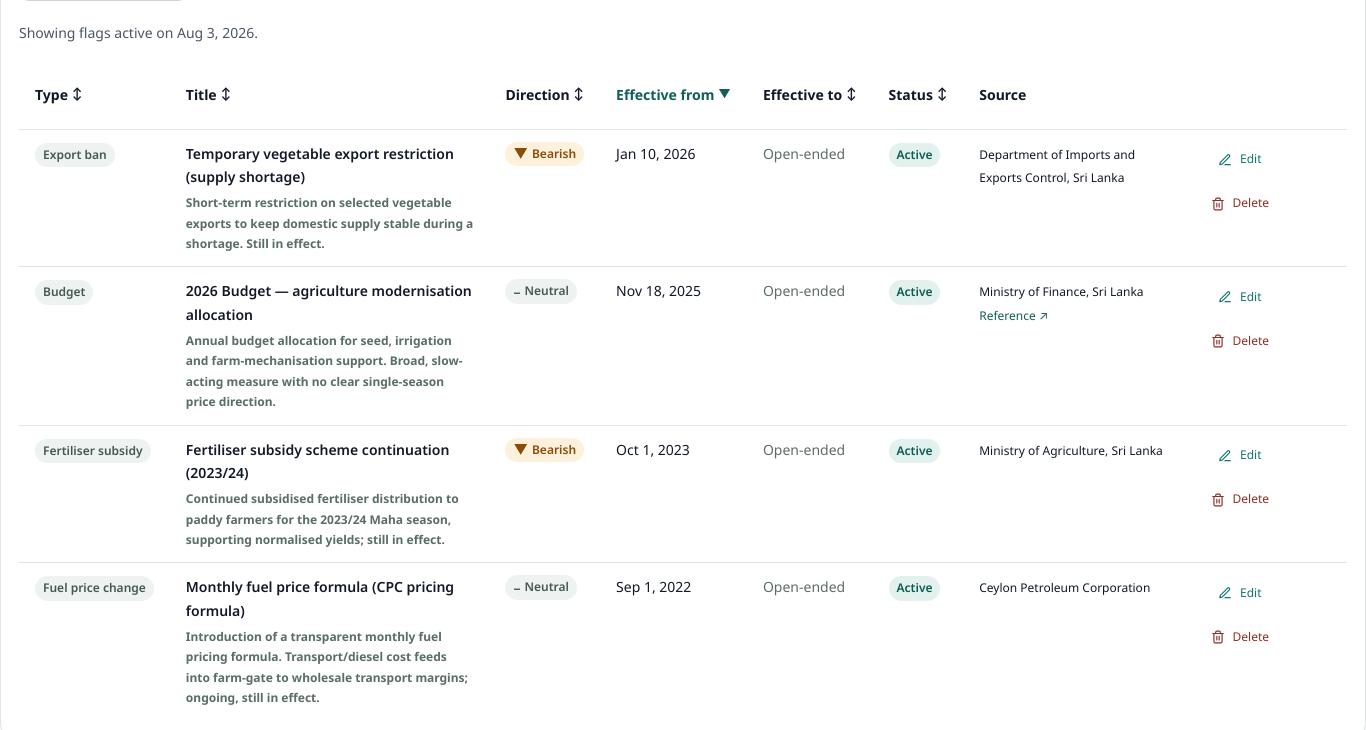
Test: Admin console pages › PolicyFlagsPage (ADM-2) › surfaces a server guard message verbatim when a delete is rejected
The image size is (1366, 730).
(page scrolled)
Click the button "Delete" below "Ceylon Petroleum Corporation". click: click(1240, 637)
box: [1196, 619, 1284, 655]
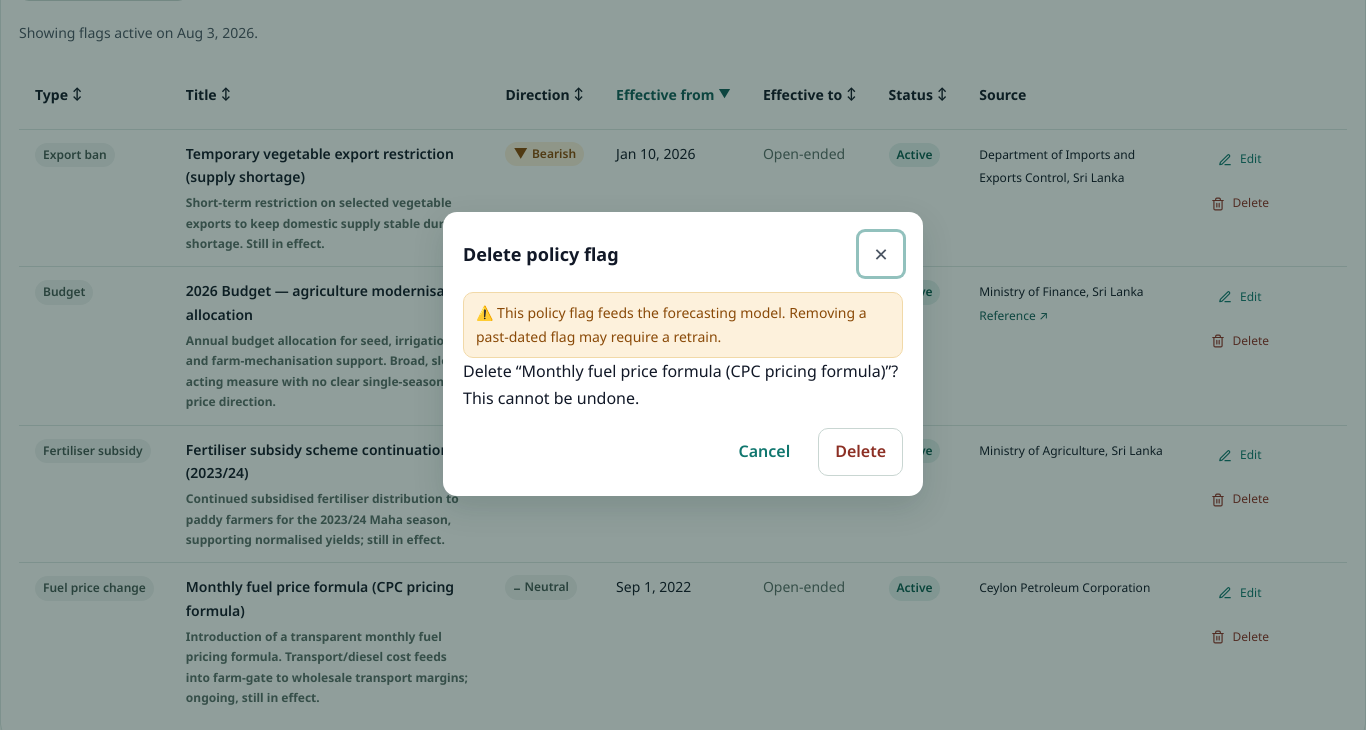
Click the button with class "adm-btn--danger". click: click(861, 452)
box: [818, 428, 903, 476]
(page scrolled)
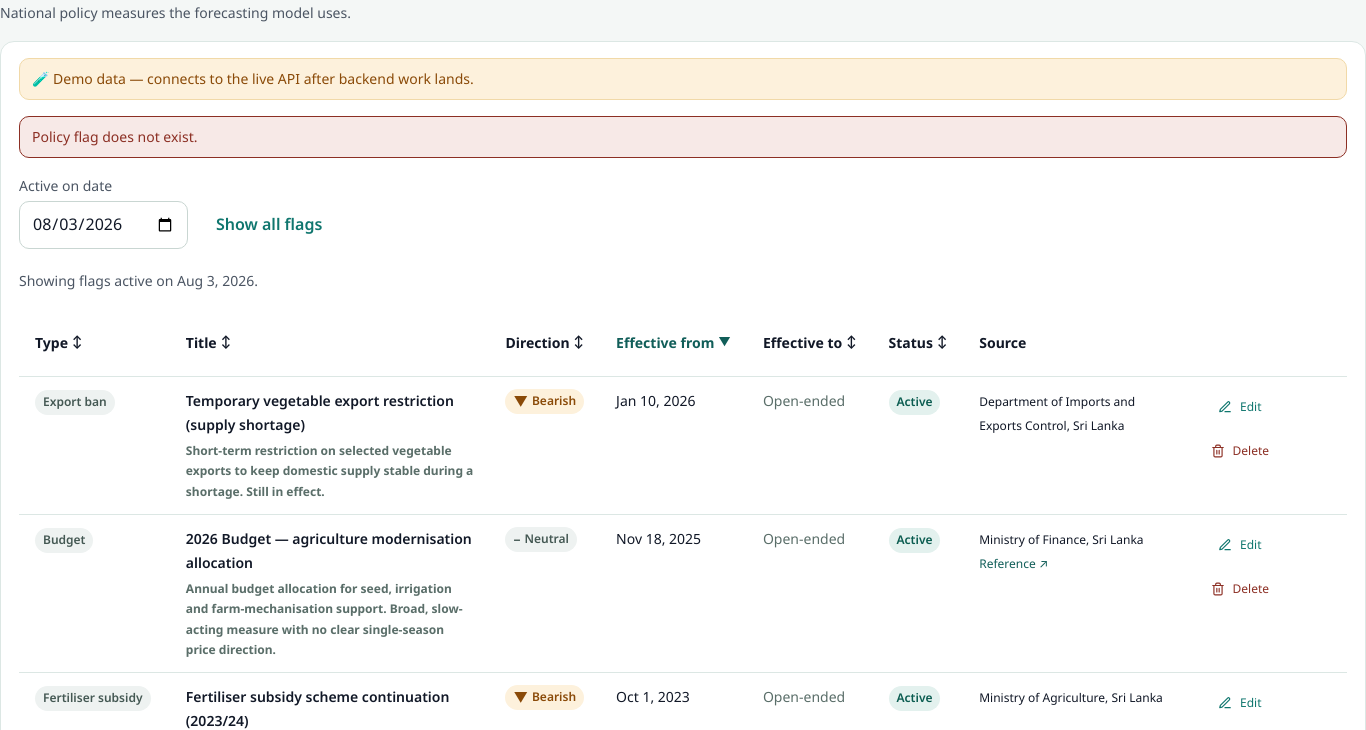
Expected: the text "Policy flag does not exist." is shown, [19, 116, 1347, 158]
